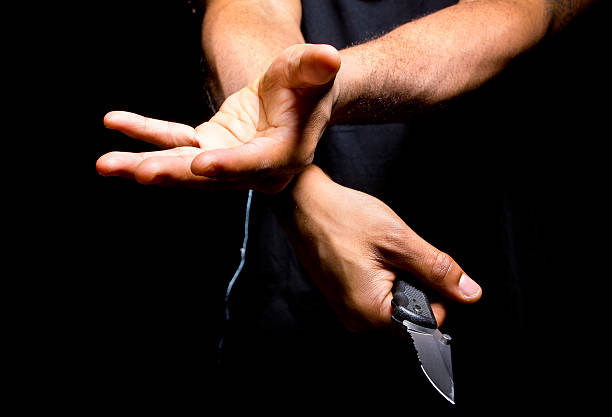knife: (392, 273, 455, 405)
